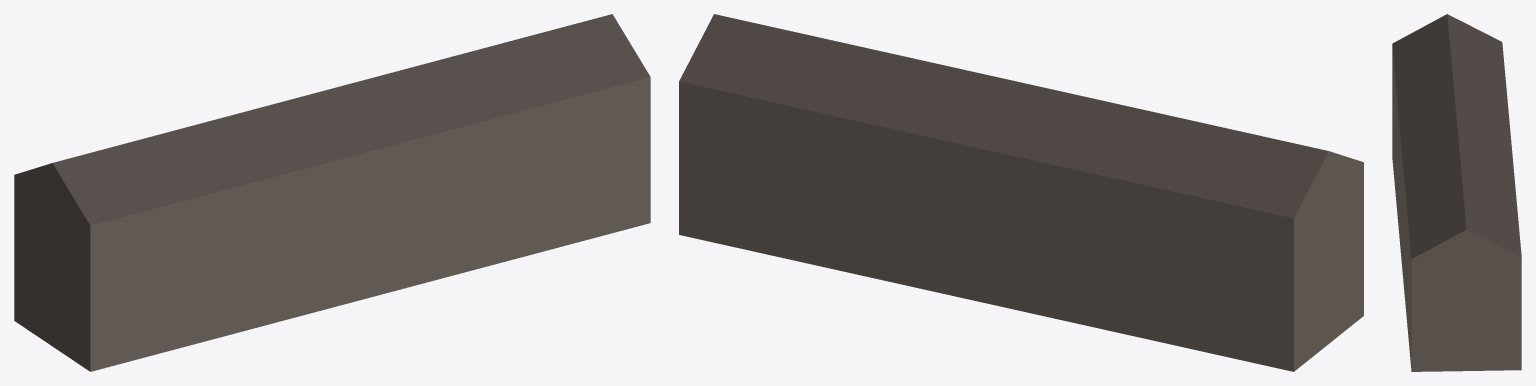
3 views of the same model, side by side, from view 1: azimuth 30°, elevation 25°; view 2: azimuth 150°, elevation 25°; view 3: azimuth 270°, elevation 25° (orthographic). The views are drawn at different scales.
Visible parts, largest first — view 1: HP-w859424275; view 2: HP-w859424275; view 3: HP-w859424275.
Boxes of the visible parts, x1=… form: HP-w859424275: x1=14, y1=14, x2=650, y2=371; HP-w859424275: x1=679, y1=14, x2=1363, y2=371; HP-w859424275: x1=1392, y1=14, x2=1521, y2=371.
Size of the model in its own units: 37.23 by 11.31 by 9.38.
